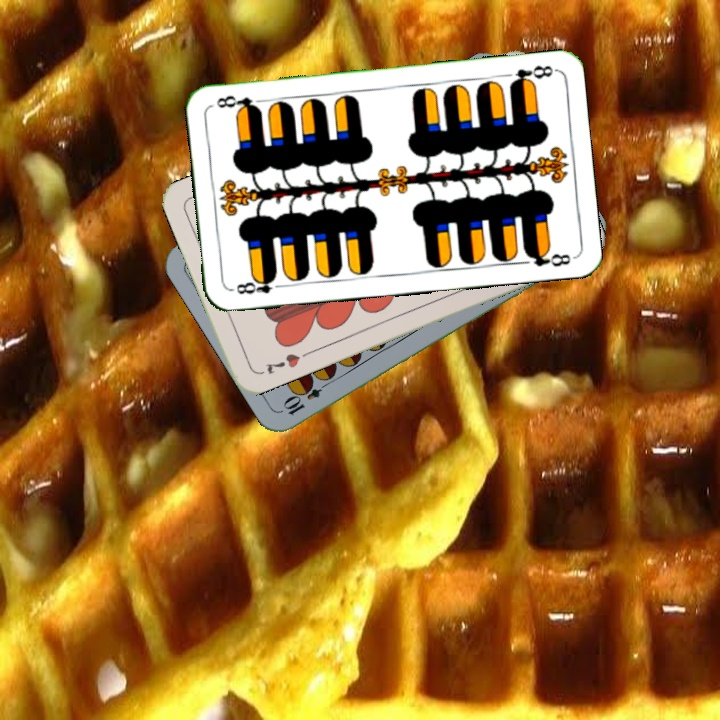E10: (280, 375, 334, 418)
E8: (228, 272, 287, 297), (505, 61, 557, 89)
H7: (261, 349, 303, 377)
